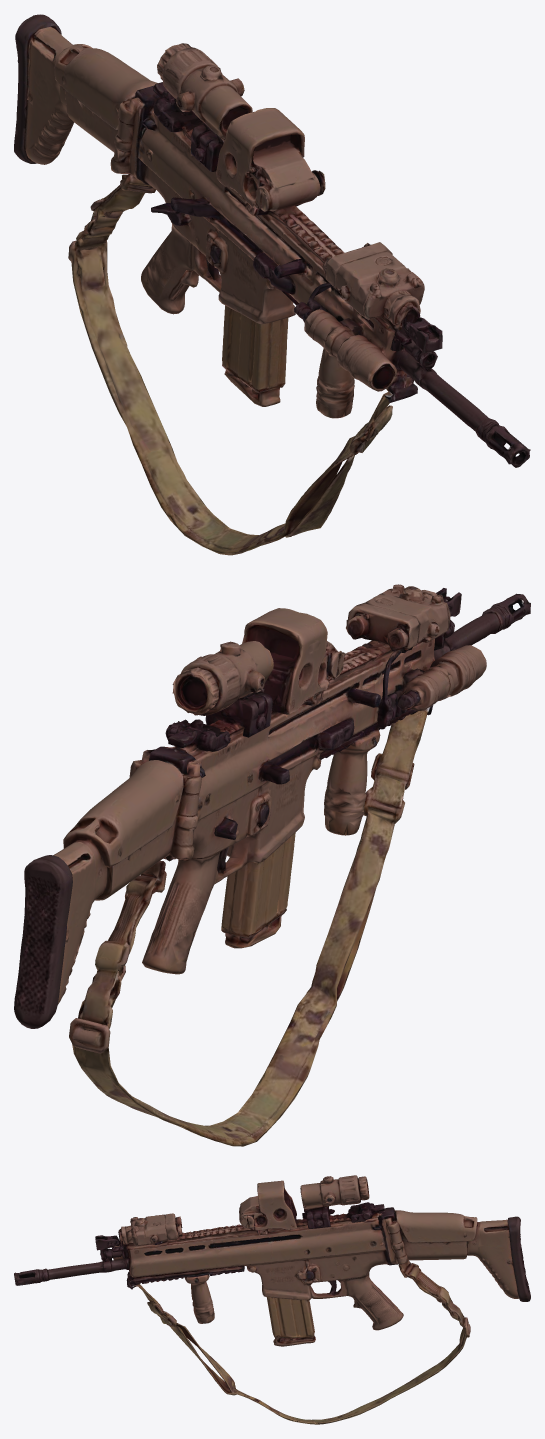
File: gun.glb
3 renders of one model, top to bottom at view 1: azimuth 30°, elevation 25°; view 2: azimuth 150°, elevation 25°; view 3: azimuth 270°, elevation 25°, orthographic. The views are drawn at different scales.
Parts seen in each view (by area): view 1: tripo_node_45471dae-4927-454e-8c1d-a6a6fc658823; view 2: tripo_node_45471dae-4927-454e-8c1d-a6a6fc658823; view 3: tripo_node_45471dae-4927-454e-8c1d-a6a6fc658823.
Part boxes in pixels (x1=…): tripo_node_45471dae-4927-454e-8c1d-a6a6fc658823: x1=14, y1=14, x2=530, y2=555; tripo_node_45471dae-4927-454e-8c1d-a6a6fc658823: x1=14, y1=584, x2=530, y2=1146; tripo_node_45471dae-4927-454e-8c1d-a6a6fc658823: x1=14, y1=1175, x2=530, y2=1424.
Size of the model in its own units: 0.1039 by 0.5348 by 0.9997.
1 material, 1 textured.
